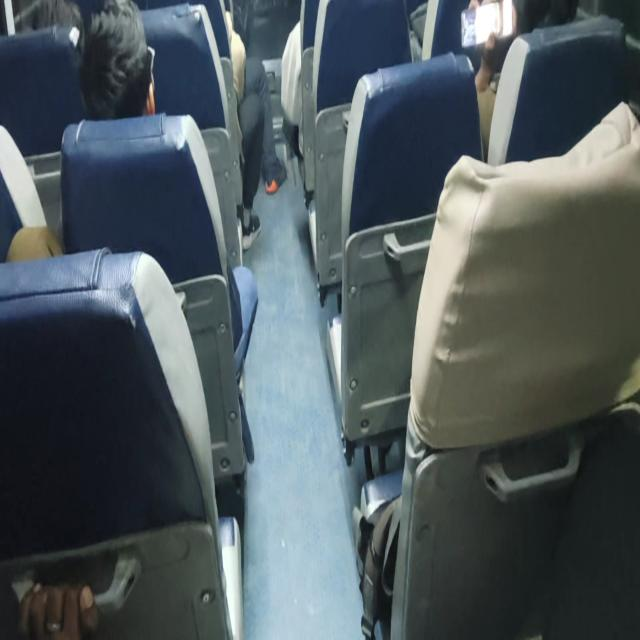person: (77, 0, 258, 461), (4, 0, 156, 261), (473, 0, 578, 156), (224, 9, 286, 250), (78, 0, 156, 120), (16, 578, 100, 638), (5, 225, 63, 262)
